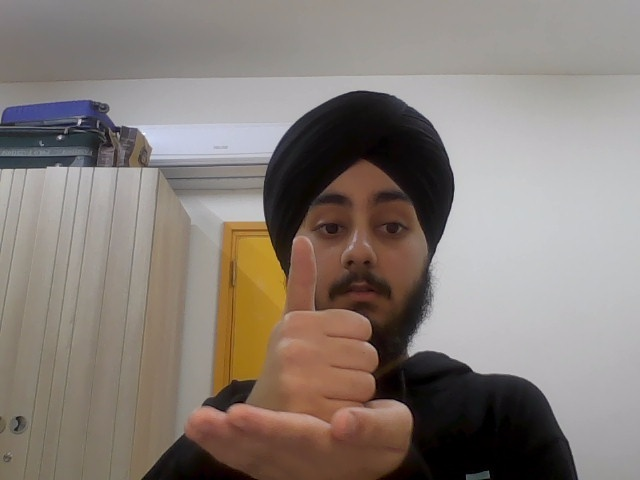Help: (179, 234, 422, 479)
